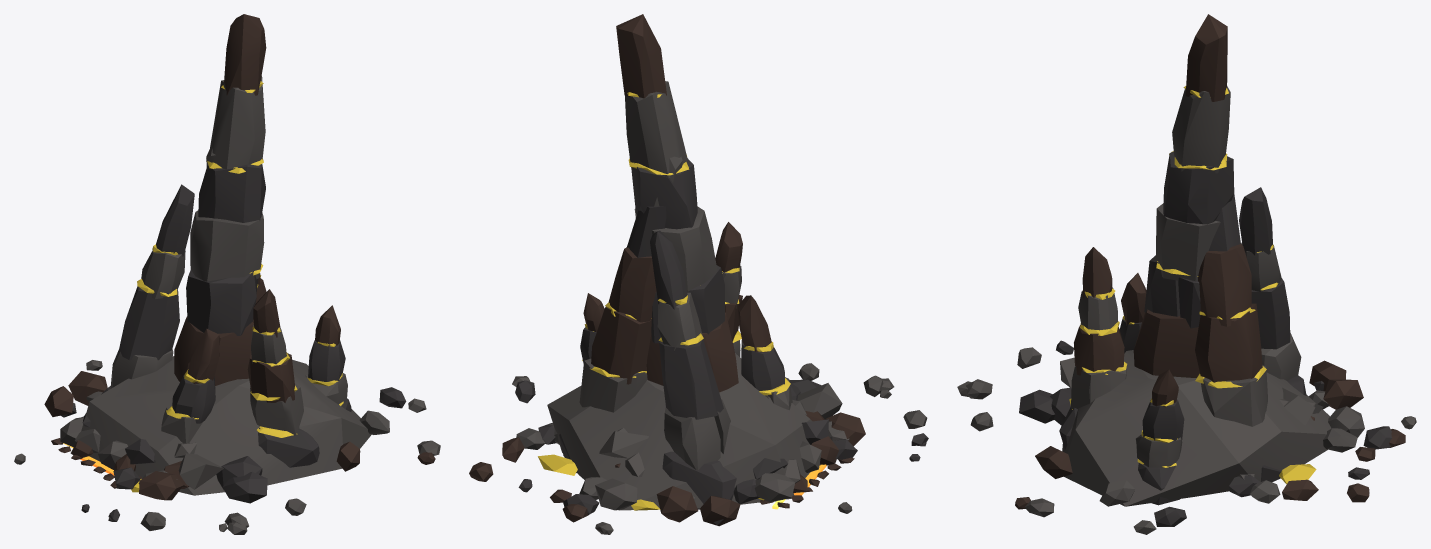
The model's file is crag.glb.
3 renders of one model, left to right at view 1: azimuth 30°, elevation 25°; view 2: azimuth 150°, elevation 25°; view 3: azimuth 270°, elevation 25°, orthographic. The views are drawn at different scales.
Visible parts, largest first — view 1: crag; view 2: crag; view 3: crag.
Part boxes in pixels (left/top/right/bottom): crag: left=14, top=14, right=440, bottom=534; crag: left=469, top=14, right=928, bottom=534; crag: left=957, top=14, right=1416, bottom=534.
Bounding box in the file's own units: 18.34 × 20.06 × 18.55.
